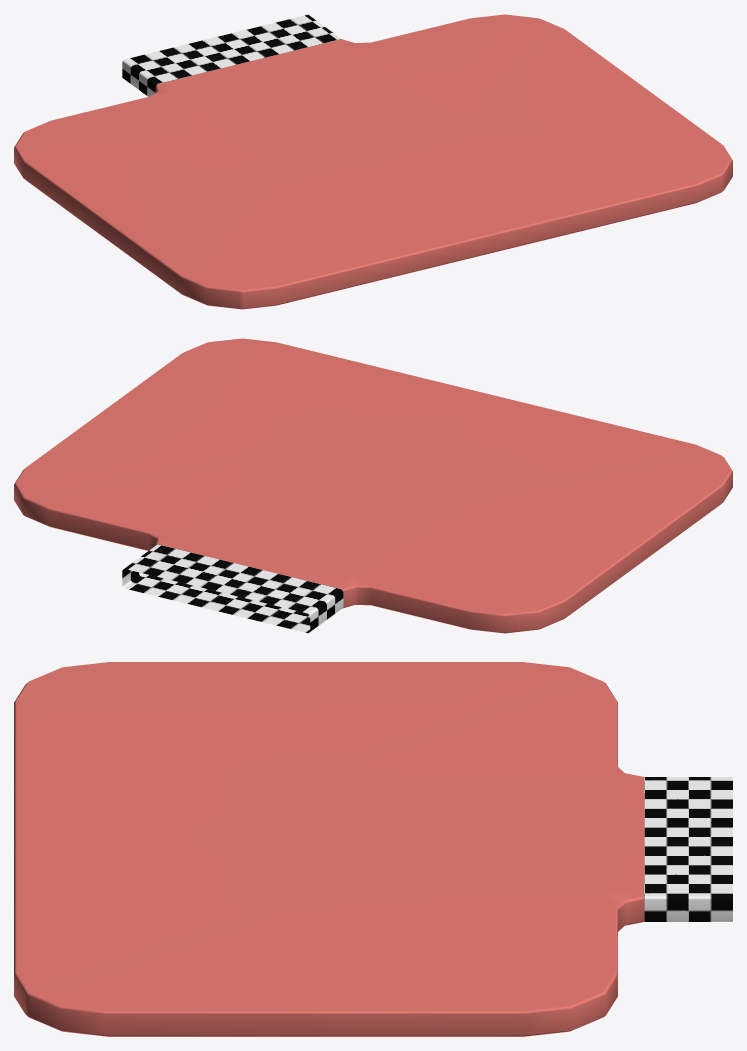
Rendered from platformfinish.fbx.
3 views of the same model, one above another, from view 1: azimuth 30°, elevation 25°; view 2: azimuth 150°, elevation 25°; view 3: azimuth 270°, elevation 25° (orthographic). The views are drawn at different scales.
Parts seen in each view (by area): view 1: platform_finish; view 2: platform_finish; view 3: platform_finish.
Boxes of the visible parts, box(x1,y1,x2,y2) form: platform_finish: box(14, 14, 732, 309); platform_finish: box(14, 338, 732, 633); platform_finish: box(14, 662, 732, 1036).
Size of the model in its own units: 28.84 by 1 by 24.99.
